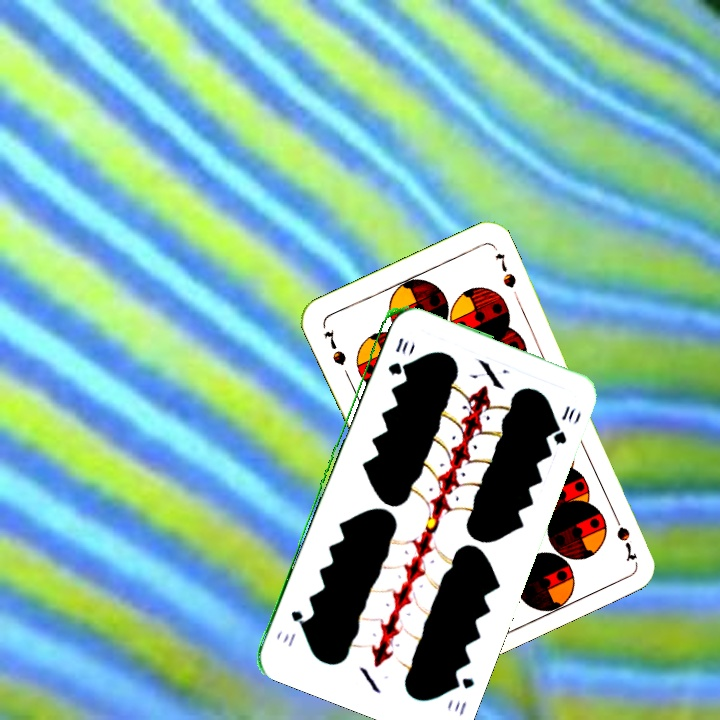G10: (447, 671, 477, 718), (384, 333, 411, 378)
S7: (608, 507, 640, 564), (320, 325, 349, 368)
